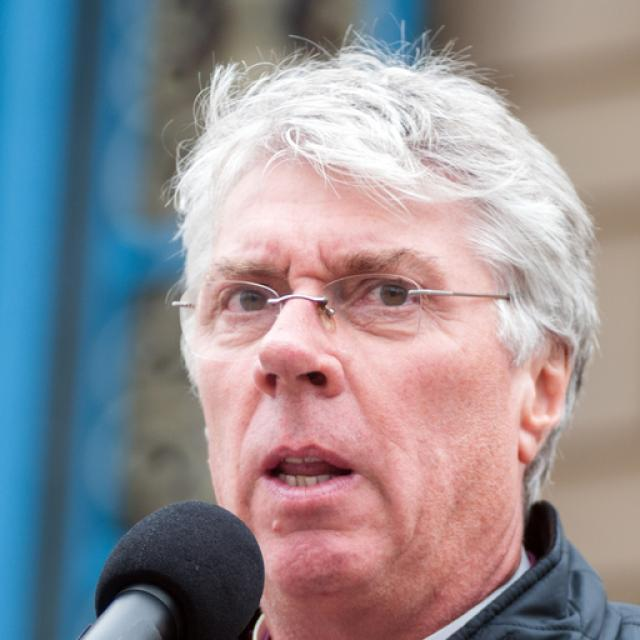disgust: (185, 149, 518, 600)
